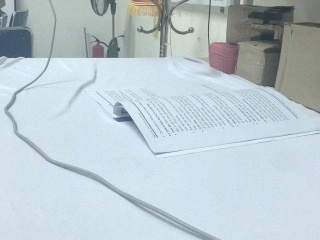box: (274, 21, 320, 118), (235, 32, 282, 88)
